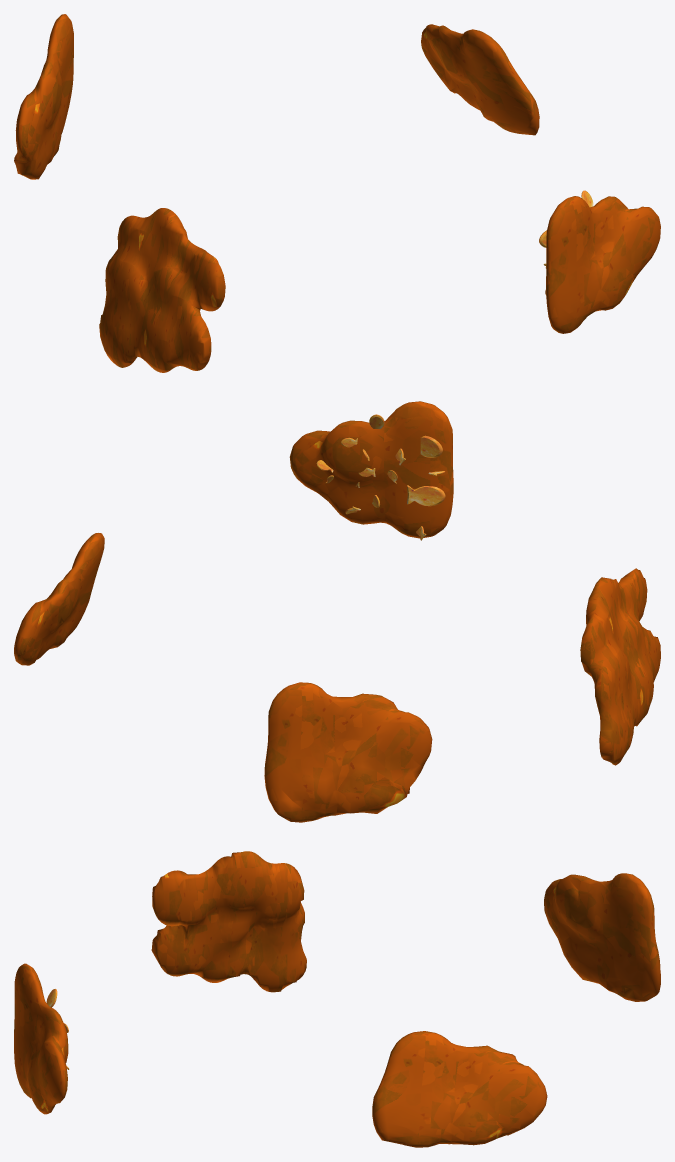
Rendered from gf_int_fish_4.glb.
3 renders of one model, top to bottom at view 1: azimuth 30°, elevation 25°; view 2: azimuth 150°, elevation 25°; view 3: azimuth 270°, elevation 25°, orthographic. The views are drawn at different scales.
Parts seen in each view (by area): view 1: Mball.011; view 2: Mball.011, fish.007; view 3: Mball.011.
Boxes of the visible parts, x1,y1,x2,y2 form: Mball.011: (14,14,660,372); Mball.011: (14,401,660,822); fish.007: (316,414,445,540); Mball.011: (14,851,660,1147).
Bounding box in the file's own units: 19.36 × 7.02 × 23.27.
Materials: 2 (2 with a texture image).
